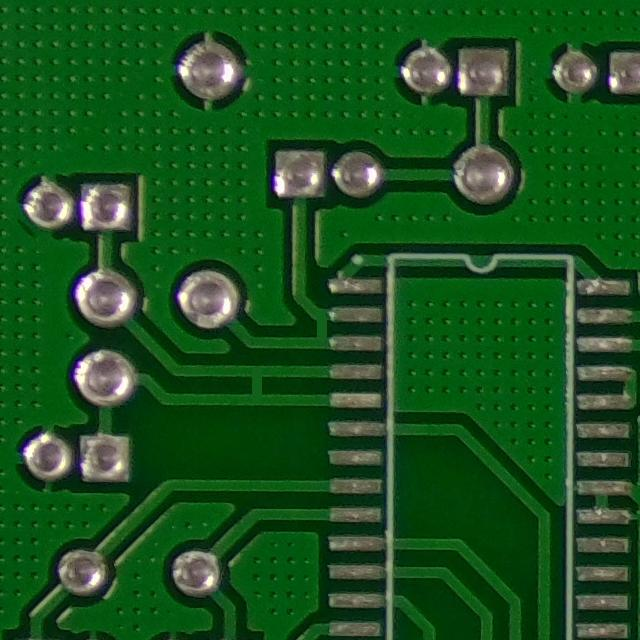short: (297, 291, 344, 350)
